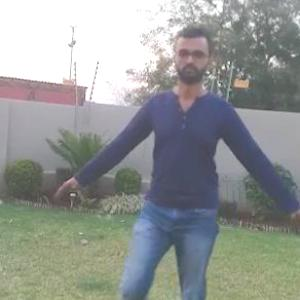land: (89, 60, 299, 299)
